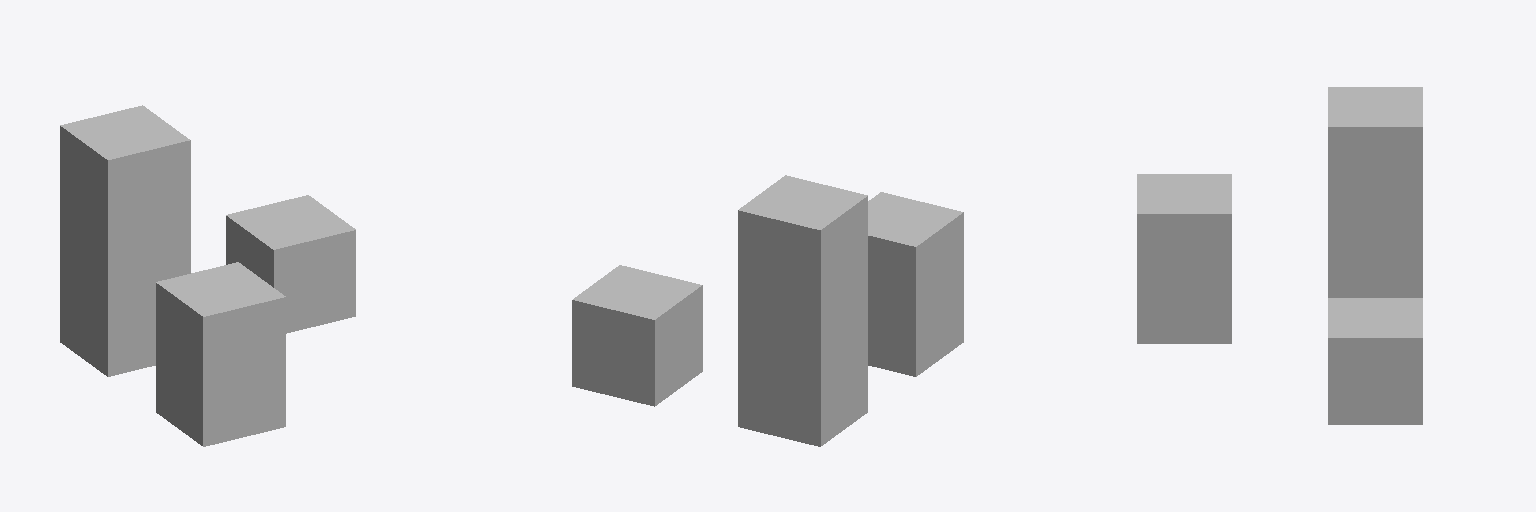
The model's file is rockPillars4-0.obj.
3 renders of one model, left to right at view 1: azimuth 30°, elevation 25°; view 2: azimuth 150°, elevation 25°; view 3: azimuth 270°, elevation 25°, orthographic.
Parts seen in each view (by area): view 1: object 1; view 2: object 1; view 3: object 1.
Boxes of the visible parts, <box> form: object 1: <box>60,105,355,446</box>; object 1: <box>572,175,963,446</box>; object 1: <box>1137,87,1422,424</box>.
Size of the model in its own units: 0.6 by 0.5 by 0.6.